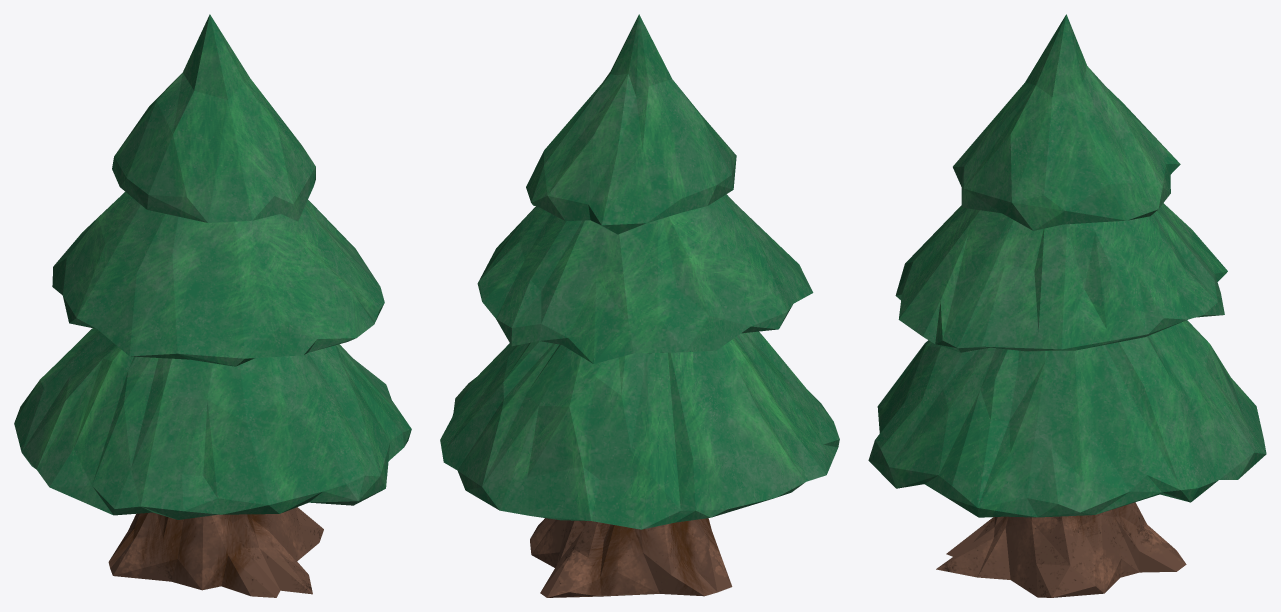
File: SM_Tree_01a.fbx
3 views of the same model, side by side, from view 1: azimuth 30°, elevation 25°; view 2: azimuth 150°, elevation 25°; view 3: azimuth 270°, elevation 25° (orthographic). The views are drawn at different scales.
Visible parts, largest first — view 1: Tree; view 2: Tree; view 3: Tree.
Part boxes in pixels (bbox=[...]): Tree: bbox=[14, 14, 411, 597]; Tree: bbox=[440, 14, 839, 597]; Tree: bbox=[868, 14, 1266, 597].
Bounding box in the file's own units: 381 × 568 × 381.
1 material, 1 textured.
